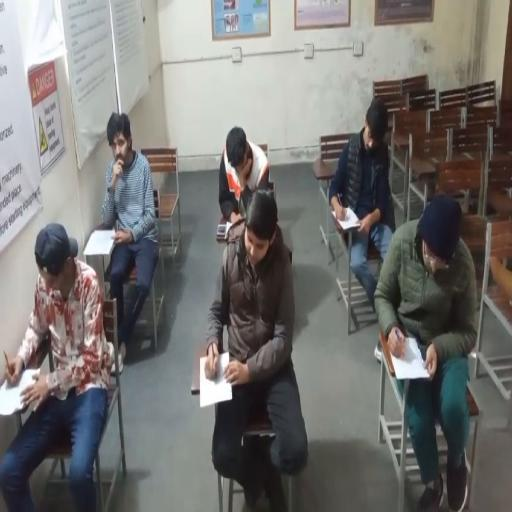paper: (0, 368, 40, 417), (200, 350, 232, 407), (391, 336, 431, 380), (83, 230, 116, 252), (332, 206, 361, 230), (217, 220, 240, 240)
